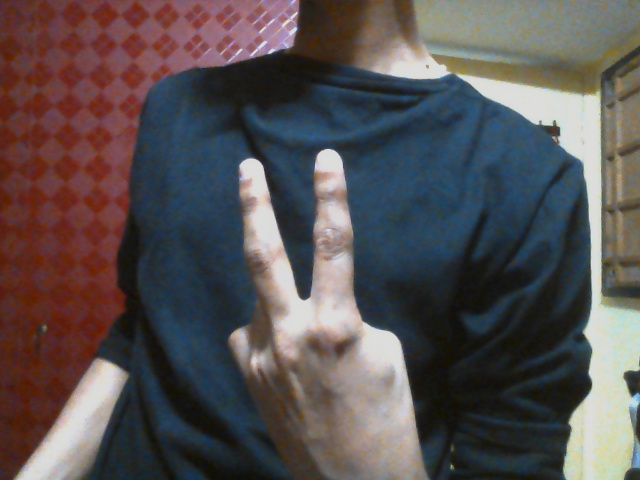V: (228, 148, 422, 460)
